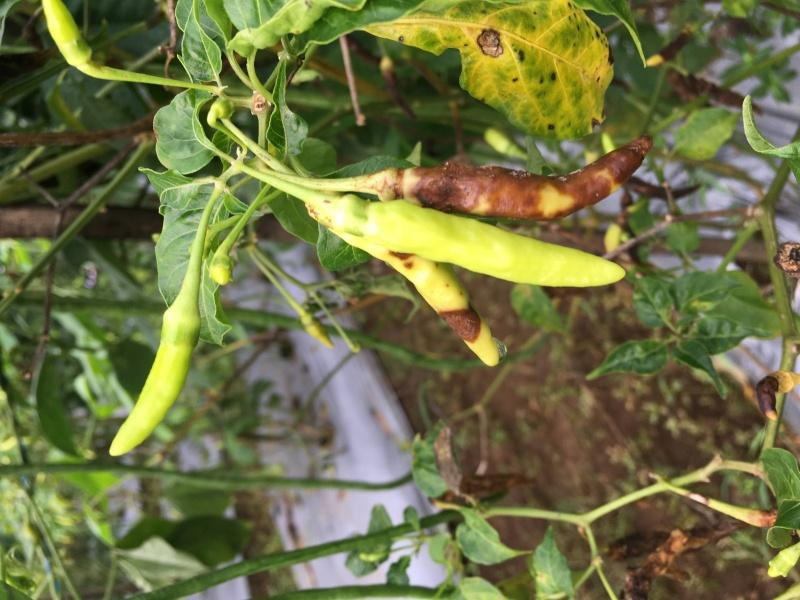antraknosa: (330, 231, 502, 367), (399, 135, 650, 220)
cabai_normal: (338, 193, 626, 287), (110, 313, 202, 457)
